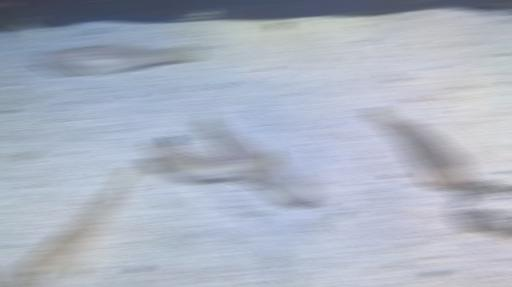Fish: (9, 163, 136, 286), (367, 107, 472, 189), (144, 135, 279, 180), (34, 44, 199, 77), (246, 157, 321, 203)
